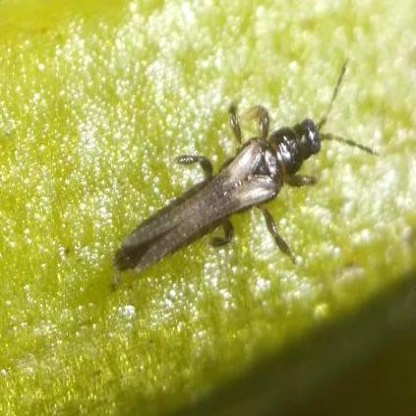Thrips: (111, 115, 320, 271)
